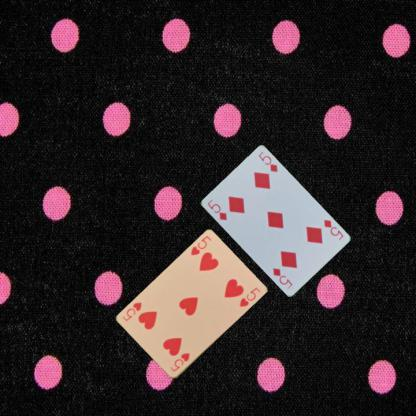5d: (205, 197, 228, 222), (321, 217, 344, 241)
5h: (188, 234, 213, 256), (168, 350, 191, 373)
